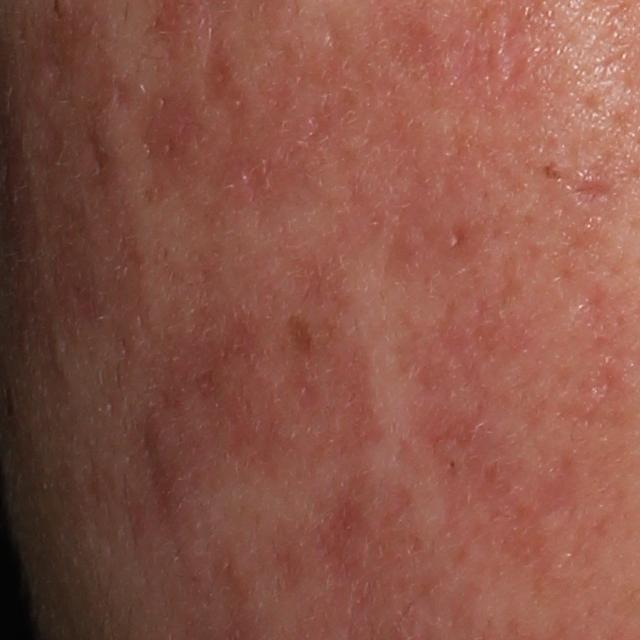atrophic_scar: (528, 451, 586, 520), (570, 176, 628, 210)
